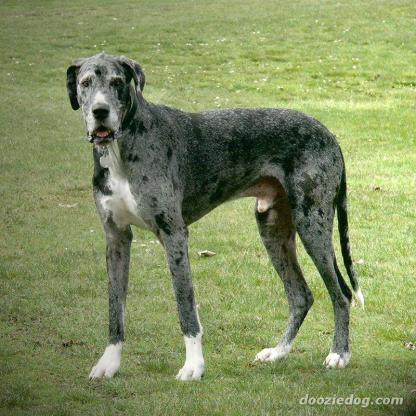Great_Dane: (64, 50, 364, 384)
